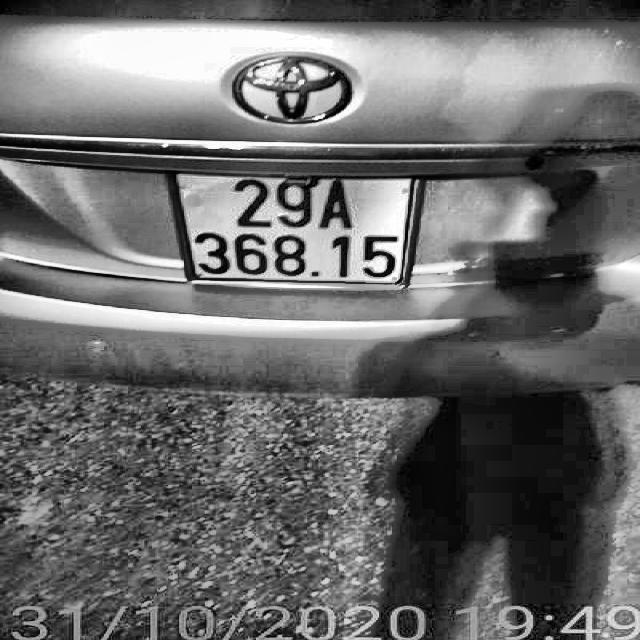plate: (154, 164, 428, 293)
